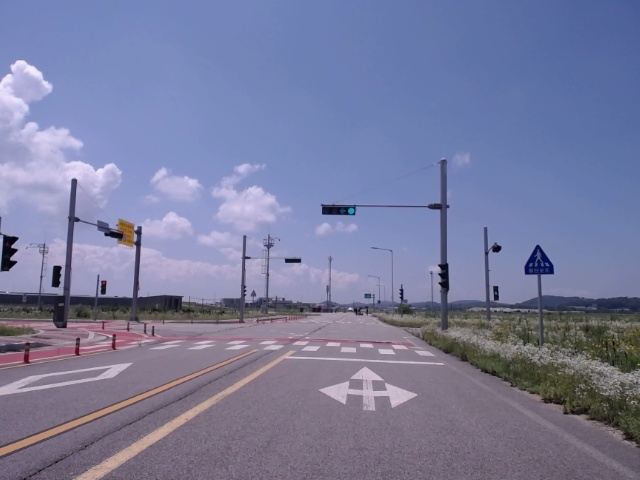all_green_4: (319, 204, 359, 215)
